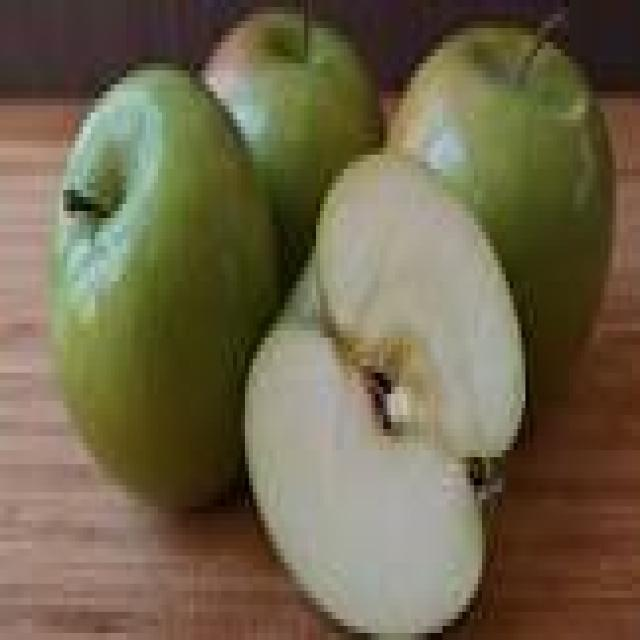apple: (245, 155, 521, 633), (51, 70, 277, 499), (391, 21, 612, 394), (205, 0, 379, 281)
